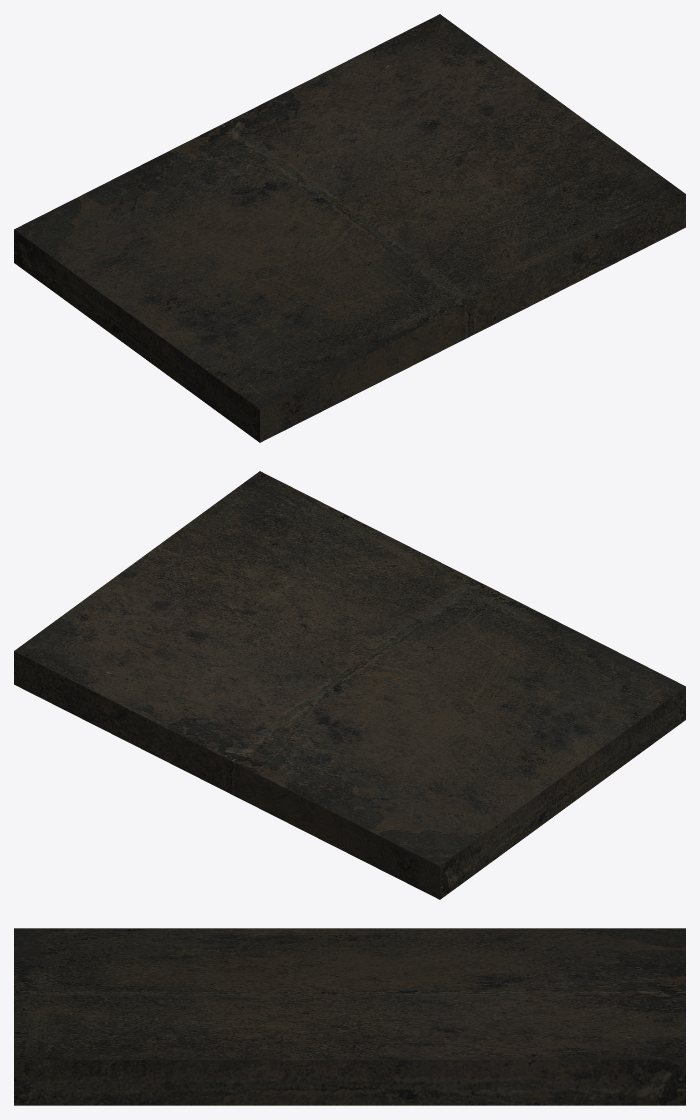
File: floor_ceiling_hs_1.fbx
3 renders of one model, top to bottom at view 1: azimuth 30°, elevation 25°; view 2: azimuth 150°, elevation 25°; view 3: azimuth 270°, elevation 25°, orthographic. The views are drawn at different scales.
Parts seen in each view (by area): view 1: floor_ceiling_hs_1; view 2: floor_ceiling_hs_1; view 3: floor_ceiling_hs_1.
Part boxes in pixels (left/top/right/bottom): floor_ceiling_hs_1: left=14, top=14, right=685, bottom=442; floor_ceiling_hs_1: left=14, top=471, right=685, bottom=899; floor_ceiling_hs_1: left=14, top=928, right=685, bottom=1105.
Bounding box in the file's own units: 4 × 4 × 1.3.
